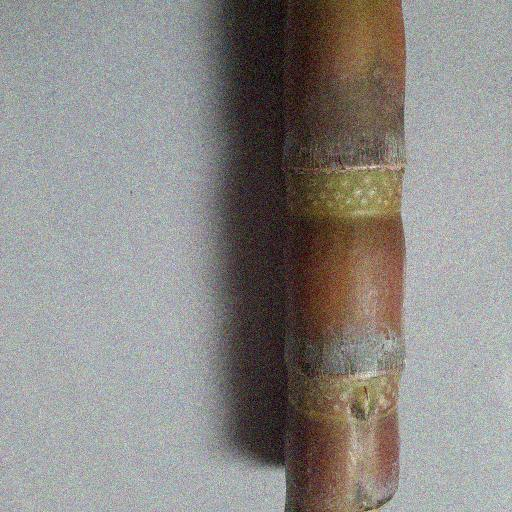Bud: (352, 383, 377, 422)
